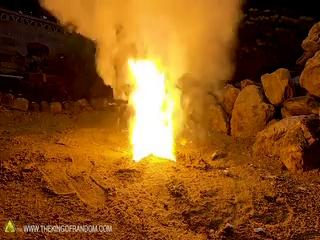Fire: (119, 61, 185, 158)
